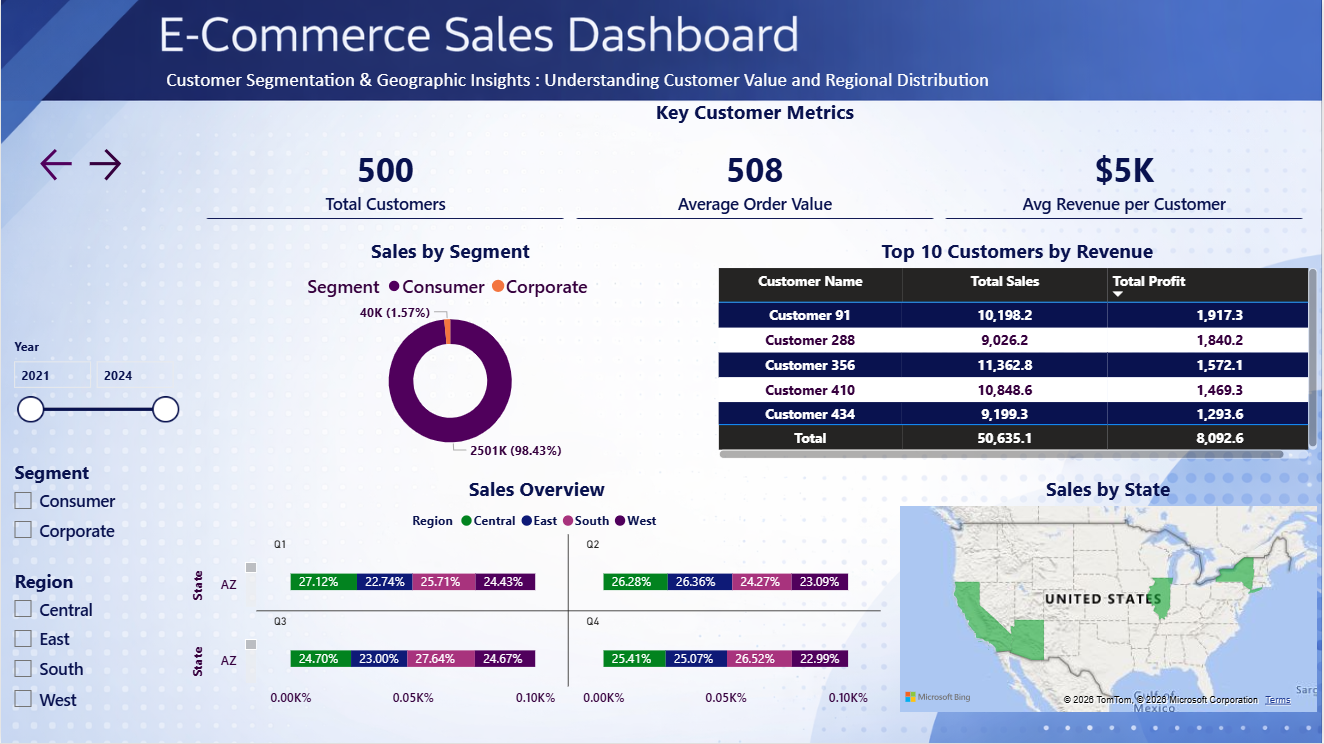

What the dashboard file says about the page in this screenshot:
{"tool":"powerbi","page":{"name":"Customer Insights","canvas":[1280,720],"ordinal":2},"visuals":[{"type":"donutChart","title":"Sales by Segment","fields":{"Category":["Dim_Customer.Segment"],"Y":["Measures_Table.Total Sales"]},"box":[180.2,229.7,510.1,219.5],"z":0},{"type":"tableEx","title":"Top 10 Customers by Revenue","fields":{"Values":["Fact_Sales.Customer Name","Measures_Table.Total Sales","Measures_Table.Total Profit"]},"box":[689,229.7,591.3,219.5],"z":1000},{"type":"filledMap","title":"Sales by State","fields":{"Category":["Dim_Customer.State"]},"box":[866.6,460.6,413.6,234.7],"z":2000},{"type":"textbox","box":[154.9,60.5,892.1,33.9],"z":3000},{"type":"slicer","fields":{"Values":["Dim_Customer.Segment"]},"box":[0,440.6,158.6,105.3],"z":4000},{"type":"slicer","fields":{"Values":["Dim_Region.Region"]},"box":[0,545.9,158.6,150.1],"z":5000},{"type":"slicer","fields":{"Values":["Dim_Date.Date.Variation.Date Hierarchy.Year"]},"box":[0,322,180.4,118.6],"z":6000},{"type":"cardVisual","title":"Key Customer Metrics","fields":{"Data":["Measures_Table.Total Customers","Measures_Table.Average Order Value","Measures_Table.Avg Revenue per Customer"]},"box":[180.2,95.2,1100.1,134.5],"z":7000},{"type":"hundredPercentStackedBarChart","title":"Sales Overview","fields":{"Y":["Measures_Table.Total Sales"],"Category":["Dim_Customer.State"],"Series":["Dim_Region.Region"],"Rows":["Dim_Date.Quarter"]},"box":[180.2,460.6,677.6,234.7],"z":8000},{"type":"actionButton","box":[79.9,139.6,55.8,40.6],"z":9000},{"type":"actionButton","box":[34.3,139.6,45.7,40.6],"z":10000}]}

Visuals, with their boxes in screenshot pixels (x1, y1, x2, y2), scaled from the page's 1280x720 canvas onto the 1324x744 screenshot:
"Sales by Segment" donutChart: locate(186, 237, 714, 464)
"Top 10 Customers by Revenue" tableEx: locate(713, 237, 1323, 464)
"Sales by State" filledMap: locate(896, 476, 1323, 718)
textbox: locate(160, 63, 1083, 98)
slicer - Dim_Customer.Segment: locate(0, 455, 164, 564)
slicer - Dim_Region.Region: locate(0, 564, 164, 719)
slicer - Dim_Date.Date.Variation.Date Hierarchy.Year: locate(0, 333, 187, 455)
"Key Customer Metrics" cardVisual: locate(186, 98, 1323, 237)
"Sales Overview" hundredPercentStackedBarChart: locate(186, 476, 887, 718)
actionButton: locate(83, 144, 140, 186)
actionButton: locate(35, 144, 83, 186)
